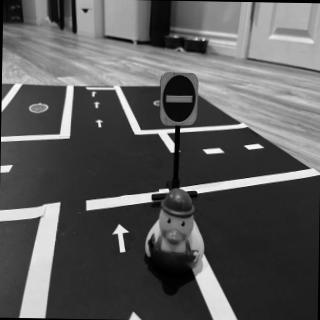duck_specialty: (146, 189, 209, 275)
road_oneway: (110, 219, 131, 258), (94, 116, 105, 131), (94, 100, 103, 112), (90, 92, 99, 101)
sign_noentry: (160, 71, 199, 128)
